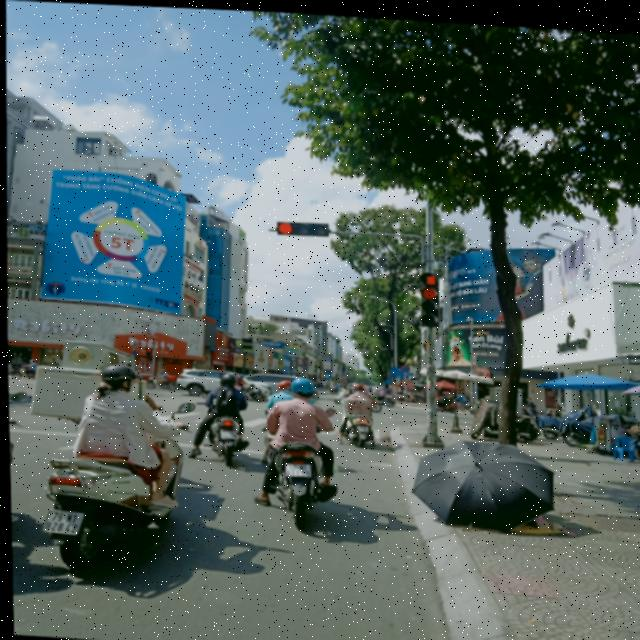Red: (272, 214, 333, 236), (412, 282, 441, 324)
